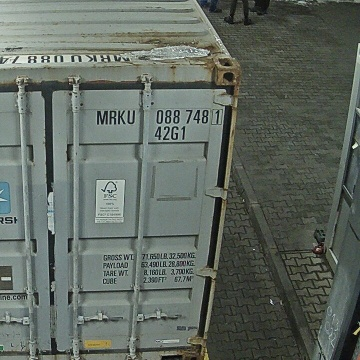serial_id: (96, 110, 221, 124)
